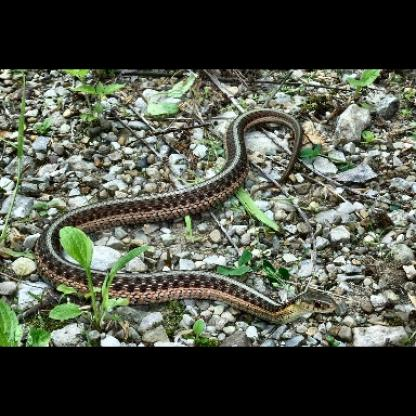Snake: (36, 107, 343, 323)
